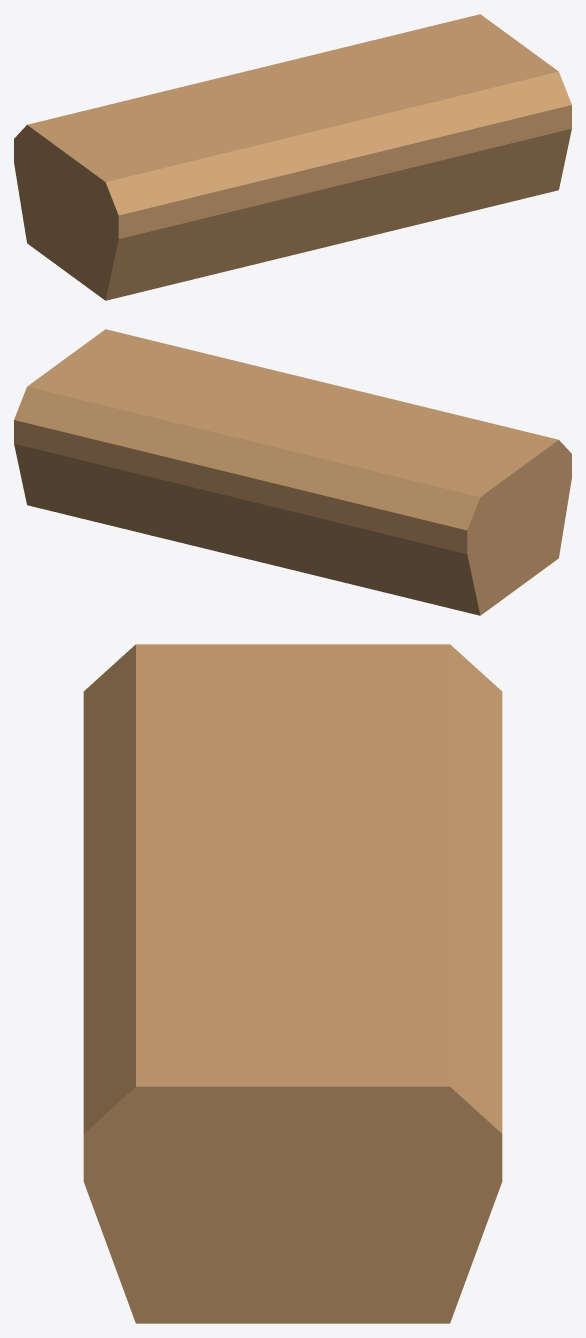
Rendered from Wall_Straight_Top.obj.
The picture shows the model from 3 angles, top to bottom: view 1: azimuth 30°, elevation 25°; view 2: azimuth 150°, elevation 25°; view 3: azimuth 270°, elevation 25°; orthographic projection. The views are drawn at different scales.
Parts seen in each view (by area): view 1: object1; view 2: object1; view 3: object1.
Part boxes in pixels (<box>): object1: <box>14,14,571,300</box>; object1: <box>14,329,571,615</box>; object1: <box>83,644,502,1323</box>.
Bounding box in the file's own units: 1 × 0.25 × 0.4.
